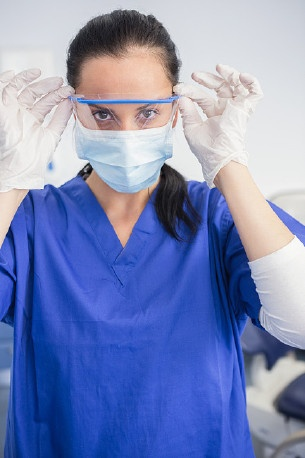Mask: (75, 92, 174, 191)
